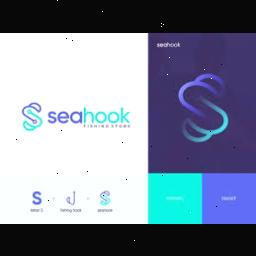s: (28, 188, 46, 208)
